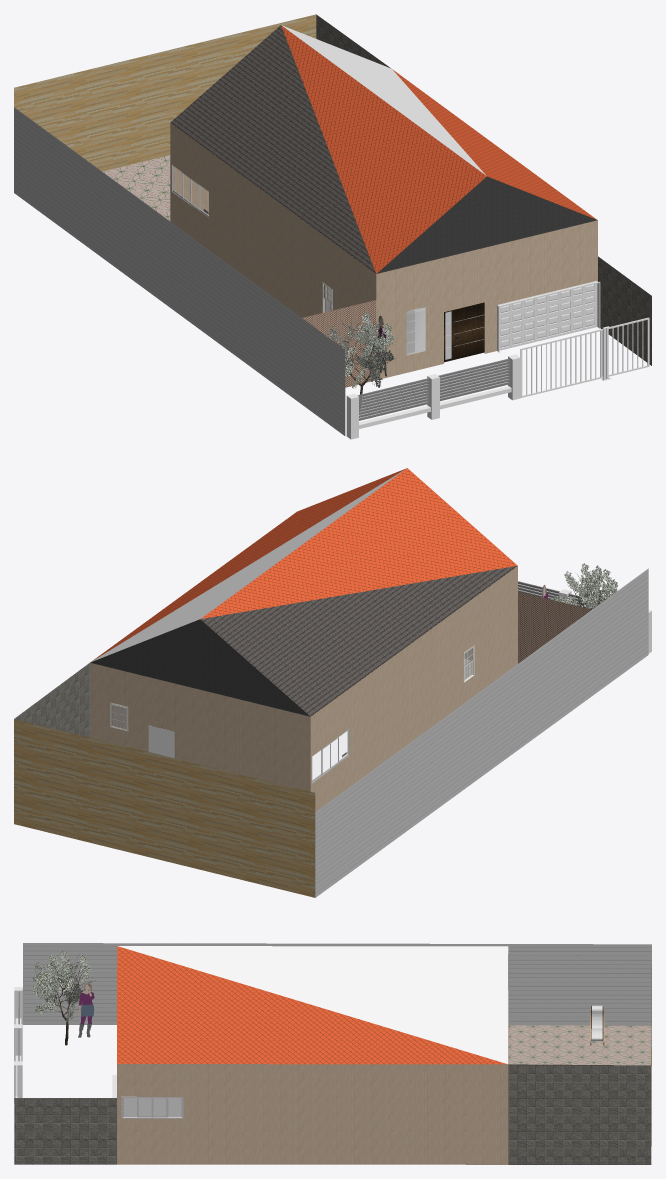
The model's file is rumah2.glb.
The picture shows the model from 3 angles, top to bottom: view 1: azimuth 30°, elevation 25°; view 2: azimuth 150°, elevation 25°; view 3: azimuth 270°, elevation 25°; orthographic projection. The views are drawn at different scales.
Visible parts, largest first — view 1: Object_6, Object_3, Object_16, Object_17, Object_20, Object_32, Object_7, Object_29, Object_18, Object_31, Object_5, Object_4 (+2 smaller); view 2: Object_6, Object_20, Object_3, Object_16, Object_17, Object_7, Object_32, Object_18, Object_5; view 3: Object_6, Object_32, Object_16, Object_18, Object_3, Object_4, Object_56, Object_28, Object_33, Object_47, Object_43, Object_35 (+2 smaller).
Boxes of the visible parts, left/top/right/bottom form: Object_6: left=170, top=123, right=597, bottom=379; Object_3: left=14, top=107, right=345, bottom=435; Object_16: left=281, top=25, right=596, bottom=273; Object_17: left=170, top=25, right=375, bottom=273; Object_20: left=14, top=14, right=316, bottom=171; Object_32: left=282, top=25, right=649, bottom=439; Object_7: left=377, top=176, right=597, bottom=273; Object_29: left=409, top=281, right=600, bottom=352; Object_18: left=316, top=14, right=651, bottom=365; Object_31: left=357, top=358, right=510, bottom=420; Object_5: left=302, top=300, right=376, bottom=387; Object_4: left=102, top=155, right=170, bottom=220; Object_6: left=90, top=566, right=517, bottom=811; Object_20: left=14, top=719, right=315, bottom=897; Object_3: left=315, top=568, right=648, bottom=897; Object_16: left=91, top=468, right=517, bottom=661; Object_17: left=200, top=566, right=516, bottom=716; Object_7: left=90, top=619, right=309, bottom=716; Object_32: left=91, top=469, right=651, bottom=757; Object_18: left=14, top=663, right=89, bottom=737; Object_5: left=518, top=591, right=591, bottom=663; Object_6: left=117, top=990, right=508, bottom=1164; Object_32: left=14, top=946, right=602, bottom=1103; Object_16: left=117, top=946, right=507, bottom=1064; Object_18: left=14, top=1064, right=651, bottom=1164; Object_3: left=23, top=943, right=651, bottom=1025; Object_4: left=508, top=1025, right=651, bottom=1065; Object_56: left=124, top=1098, right=181, bottom=1116; Object_28: left=121, top=1096, right=183, bottom=1118; Object_33: left=43, top=955, right=95, bottom=1045; Object_47: left=33, top=950, right=90, bottom=995; Object_43: left=35, top=962, right=57, bottom=1012; Object_35: left=591, top=1005, right=602, bottom=1041.
Size of the model in its own units: 16.59 by 9.49 by 31.98.
43 materials, 21 textured.
